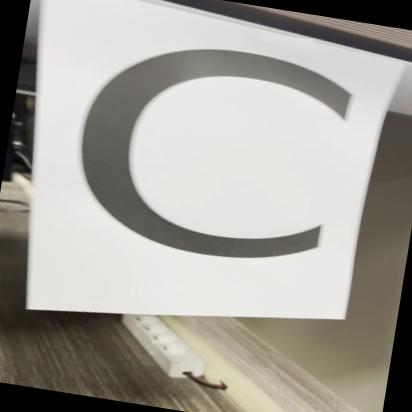seat: (7, 0, 395, 324)
